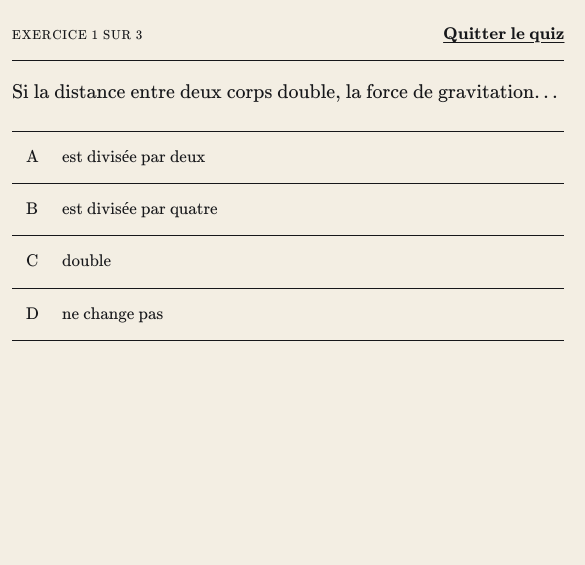
Test: a right answer › is confirmed with an icon, a text and a rule, and the explanation
What coordinates should you click on to do the following:
click the button "B est divisée par quatre"
I would click on:
 (140, 209)
Its box is 12,184 -> 564,235.
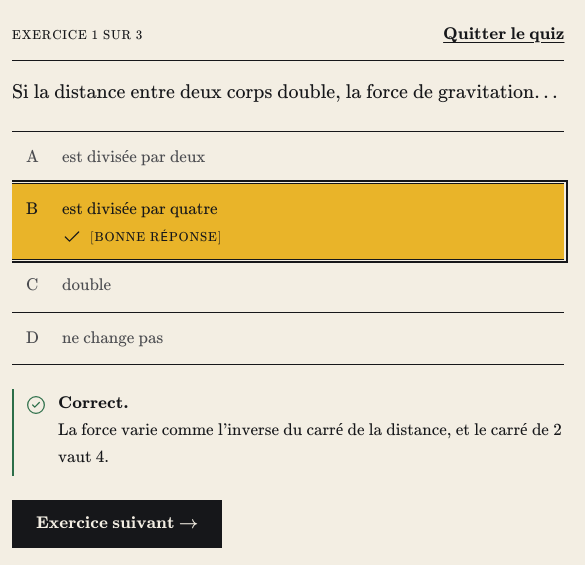
Now the 1st icon is shown, box 62,227 -> 82,247
